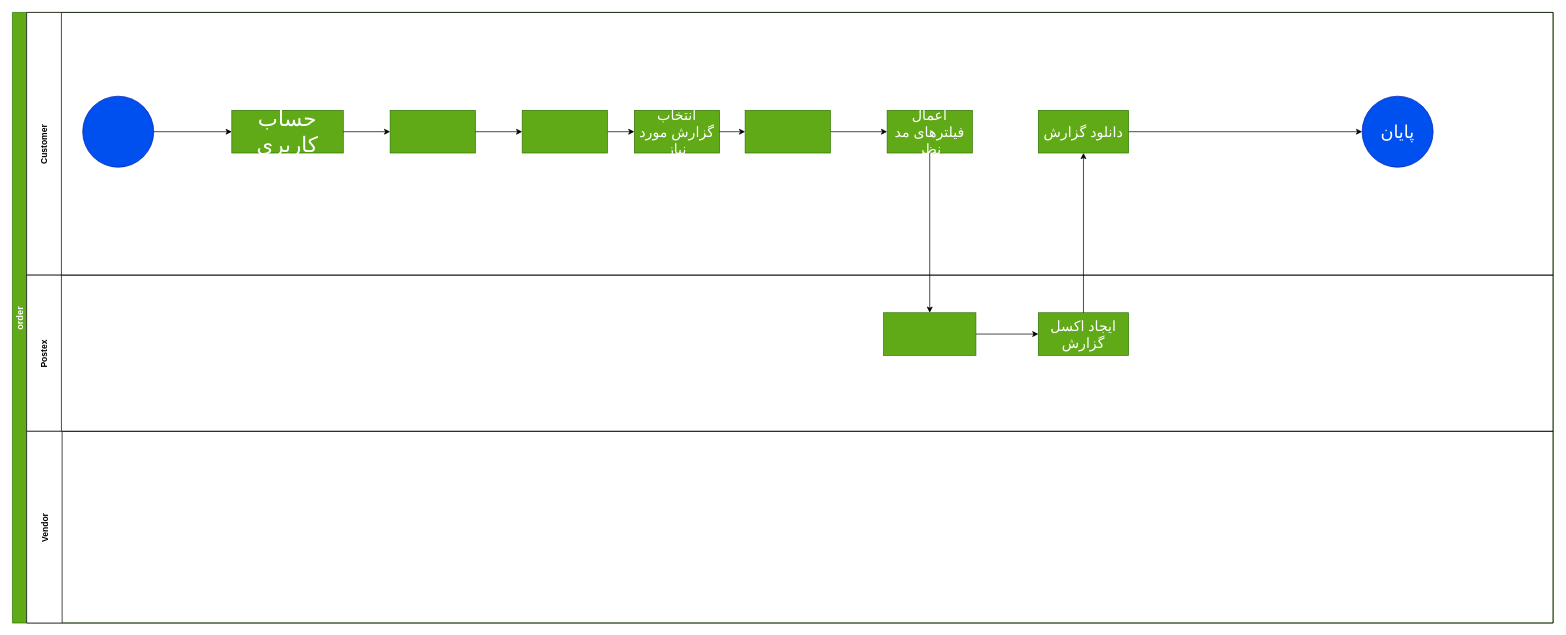
The diagram is 1566 pixels wide and 635 high, and some of its shapes have lost their labels. Each missing label, with the centre of its shape:
انتخاب تاریخ: pixel 787 131
تولید گزارش: pixel 929 333
شروع: pixel 118 131
قسمت گزارات: pixel 564 131
وارد پنل ادمین: pixel 432 131
